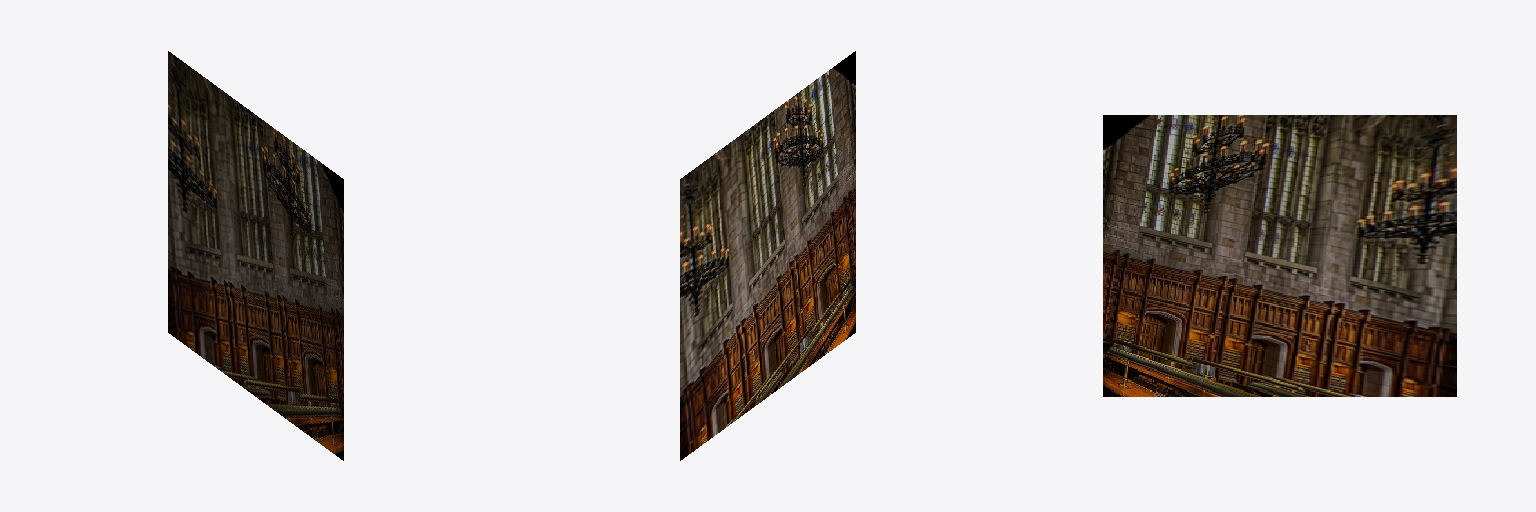
3 views of the same model, side by side, from view 1: azimuth 30°, elevation 25°; view 2: azimuth 150°, elevation 25°; view 3: azimuth 270°, elevation 25° (orthographic).
Visible parts, largest first — view 1: Plane; view 2: Plane; view 3: Plane.
Part boxes in pixels (bbox=[...]): Plane: bbox=[168, 51, 343, 460]; Plane: bbox=[680, 51, 855, 460]; Plane: bbox=[1103, 115, 1456, 396].
Size of the model in its own units: 0 by 2.47 by 2.8.
1 materials, 1 textured.